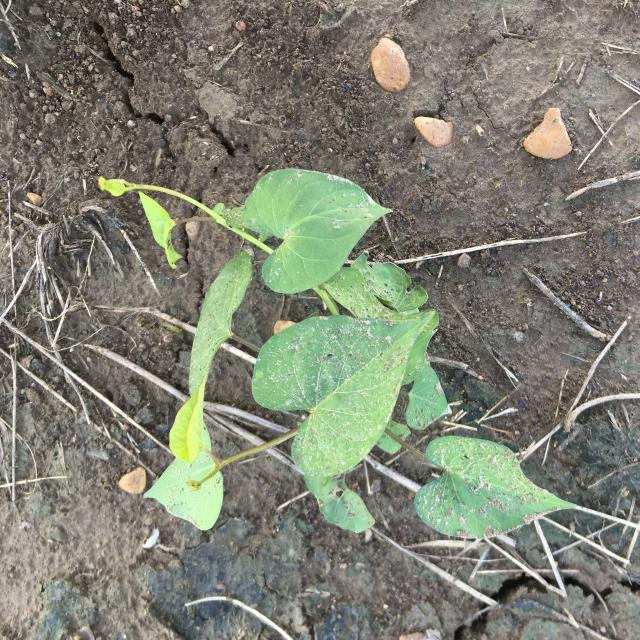MorningGlory: (98, 168, 578, 538)
